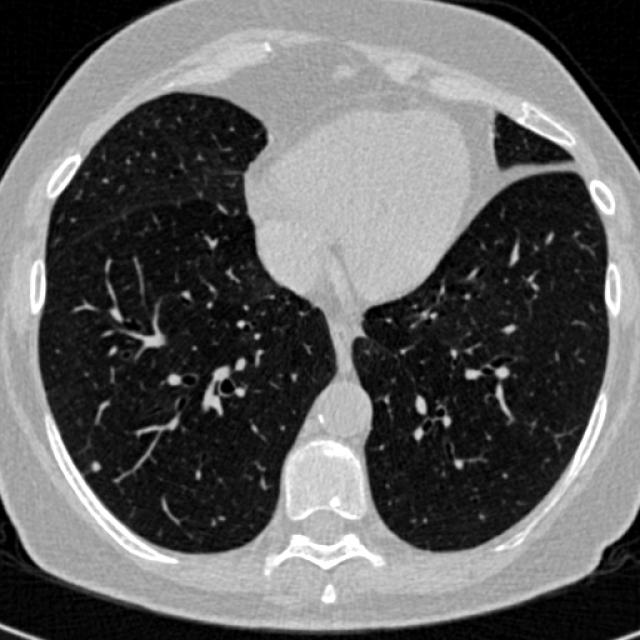nodule: (84, 455, 106, 477)
